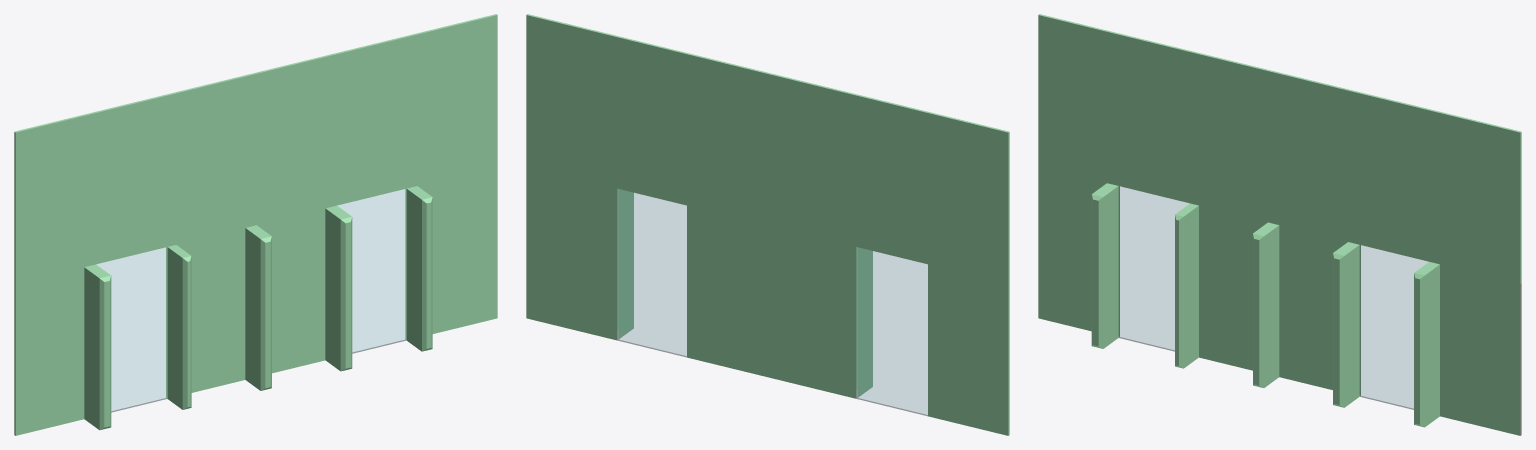
Rendered from wall.fbx.
The picture shows the model from 3 angles, left to right: view 1: azimuth 30°, elevation 25°; view 2: azimuth 150°, elevation 25°; view 3: azimuth 330°, elevation 25°; orthographic projection.
Parts seen in each view (by area): view 1: pCube7; view 2: pCube7; view 3: pCube7.
Boxes of the visible parts, box(x1,y1,x2,y2) form: pCube7: box(14, 14, 497, 435); pCube7: box(526, 14, 1009, 435); pCube7: box(1038, 14, 1521, 435).
Bounding box in the file's own units: 30 × 18.04 × 1.98.
